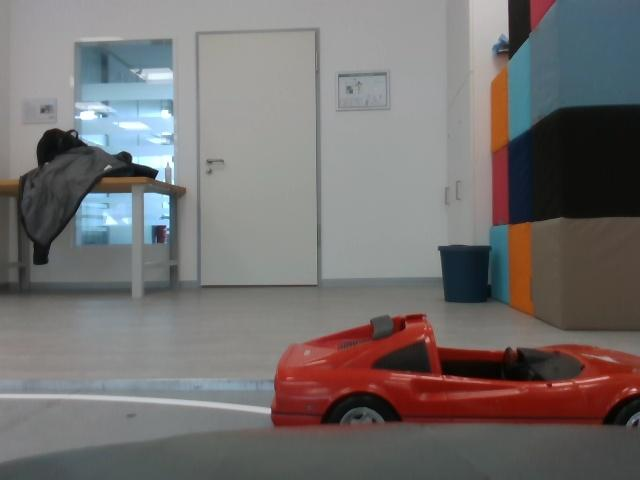car: (257, 308, 640, 446)
